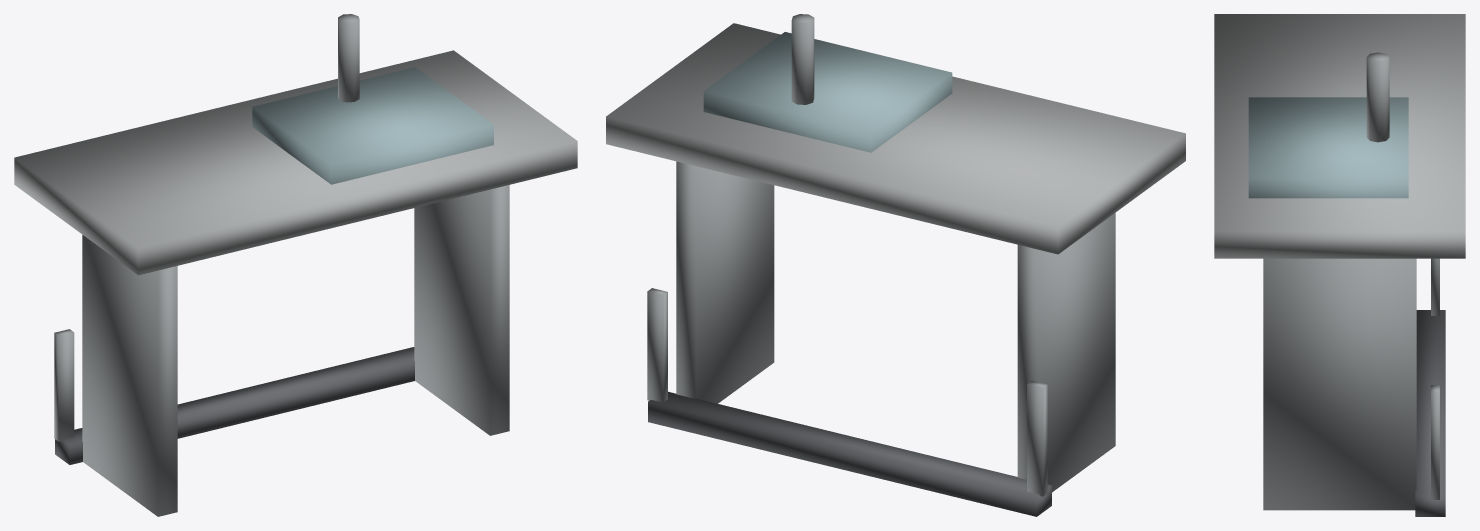
The model's file is lab_sink_bench__reinforced.glb.
3 renders of one model, left to right at view 1: azimuth 30°, elevation 25°; view 2: azimuth 150°, elevation 25°; view 3: azimuth 270°, elevation 25°, orthographic. The views are drawn at different scales.
Visible parts, largest first — view 1: world; view 2: world; view 3: world.
Part boxes in pixels (box(x1,y1,x2,y2)): world: box(14, 14, 577, 516); world: box(606, 14, 1185, 516); world: box(1214, 14, 1465, 516).
Size of the model in its own units: 1.39 by 1.2 by 0.6798.
